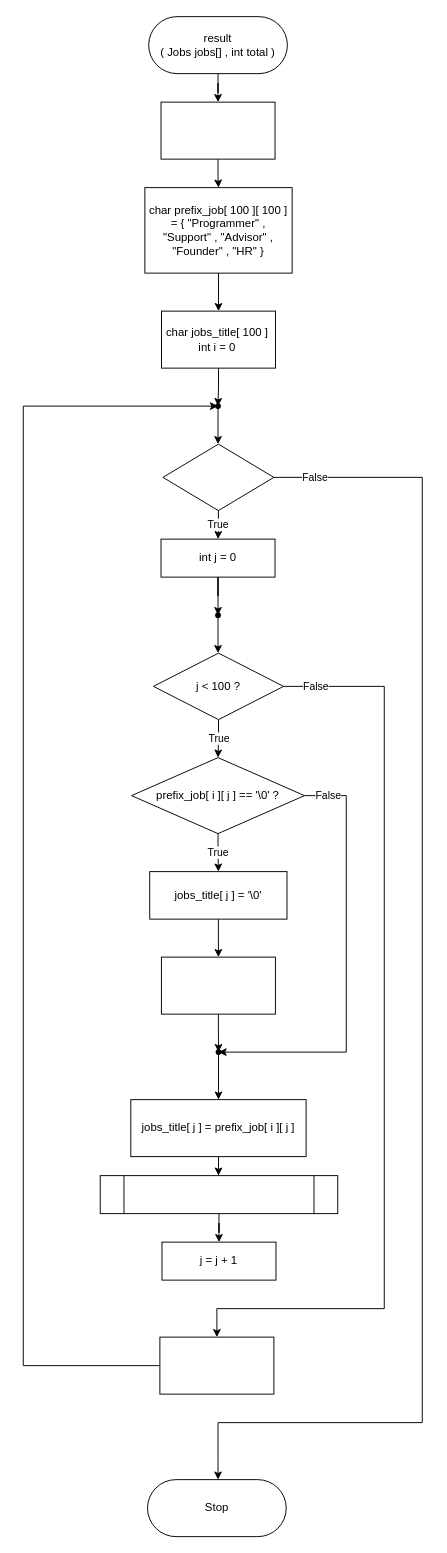
Image size: 447x1553. Some labels were removed from this diagram. The centre of each missing label's shape, as x and y in pixels:
"break" belongs at (x=217, y=985).
"float max_total = -1" belongs at (x=217, y=130).
"i < 5 ?" belongs at (x=218, y=477).
"i = i + 1" belongs at (x=216, y=1365).
"show_max ( jobs, total, max_total, jobs_title )" belongs at (x=218, y=1194).
